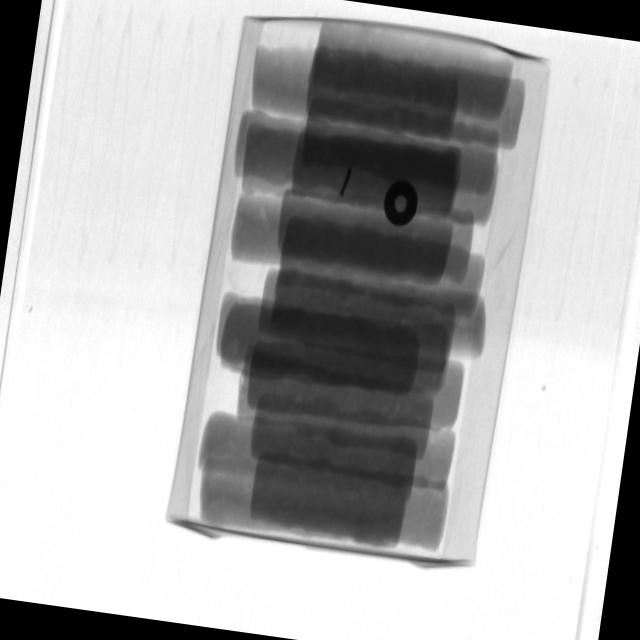ym: (383, 178, 421, 229), (340, 166, 354, 197)
